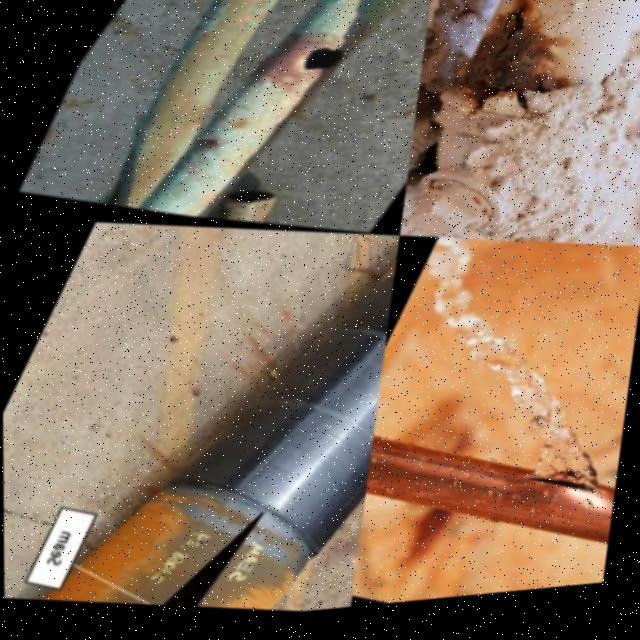crack: (506, 1, 560, 19)
hole: (280, 43, 344, 89), (486, 15, 529, 56), (461, 83, 506, 120), (521, 85, 554, 113), (501, 99, 528, 126)
rupture: (150, 521, 257, 612), (509, 478, 609, 511)
